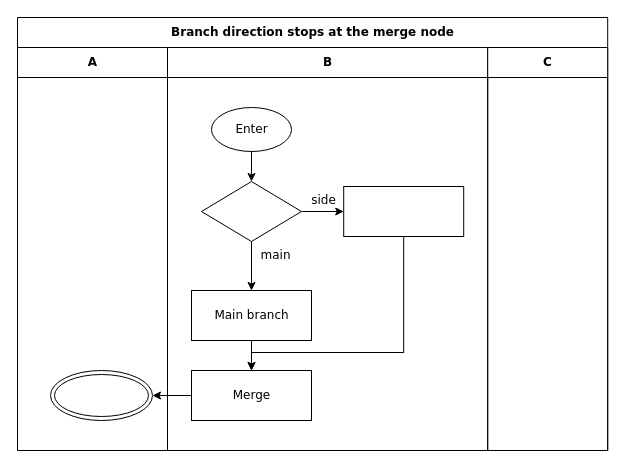
The diagram is 626 pixels wide and 468 high, and some of its shapes have lost their labels. Here are the shapes that lost their labels. From the top down, the box of each, then its label:
(200, 180, 302, 242): Fork?
(343, 186, 464, 236): Side branch
(50, 370, 152, 420): Exit left
